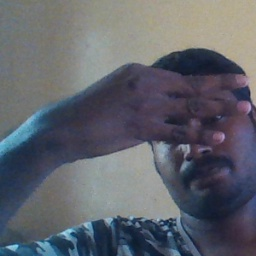K: (75, 60, 254, 150)
